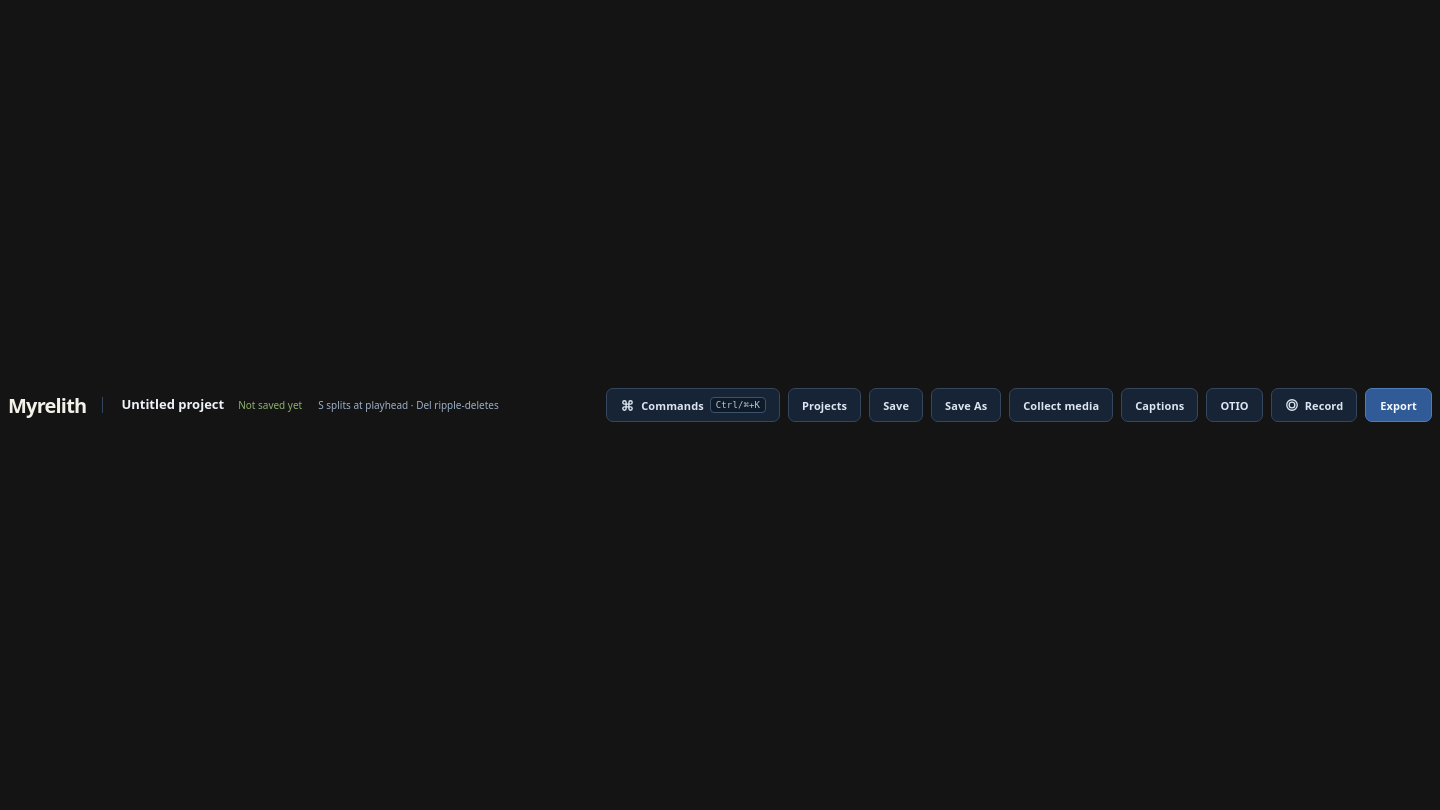
Test: Export dialog configuration › derives a portrait ratio label from the fixed timeline dimensions
Click the button "Export": {"x": 1399, "y": 405} [1365,388,1432,422]
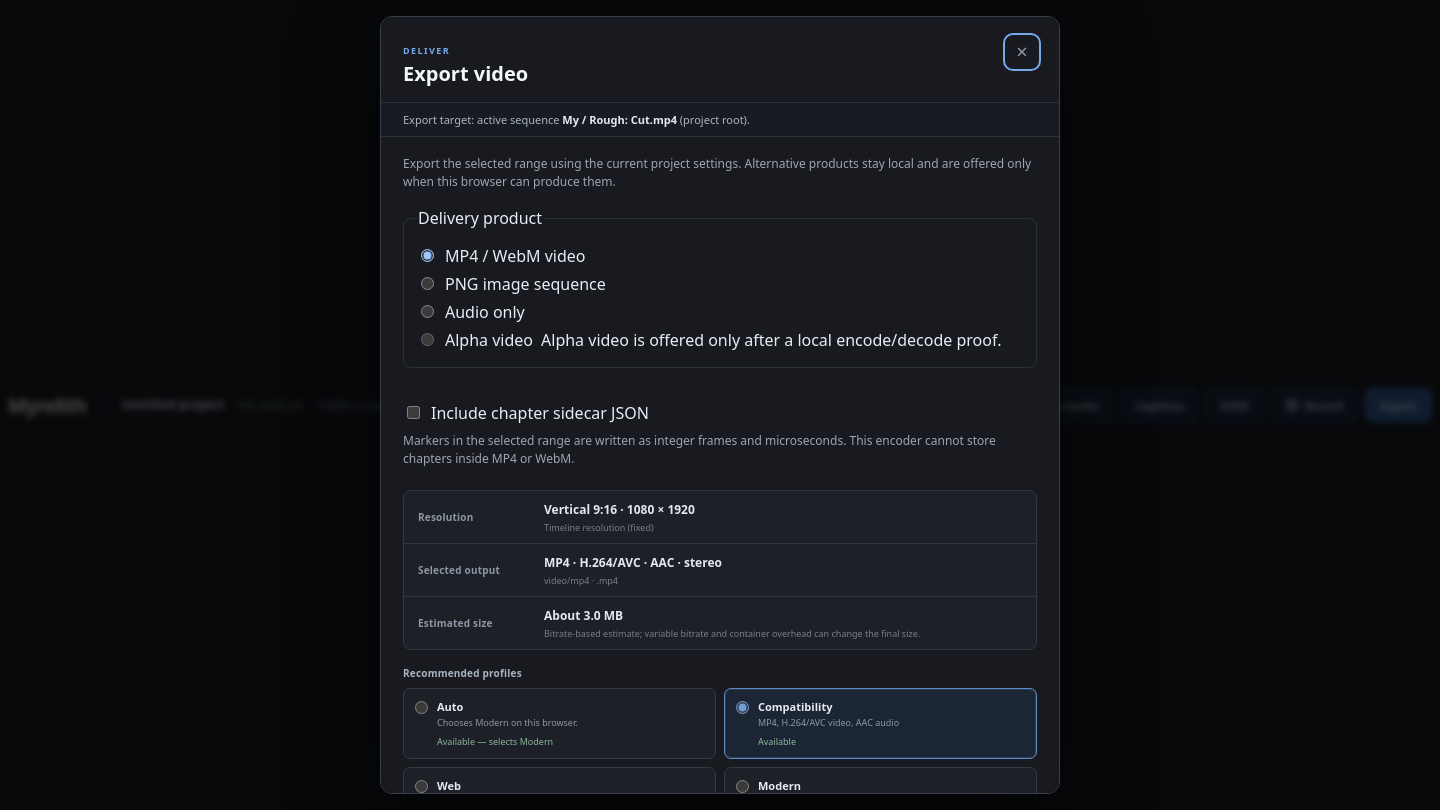
Expected: the text "Vertical 9:16 · 1080 × 1920" is shown, [544,500,695,518]
Expected: the text "Timeline resolution (fixed)" is shown, [544,520,654,534]
